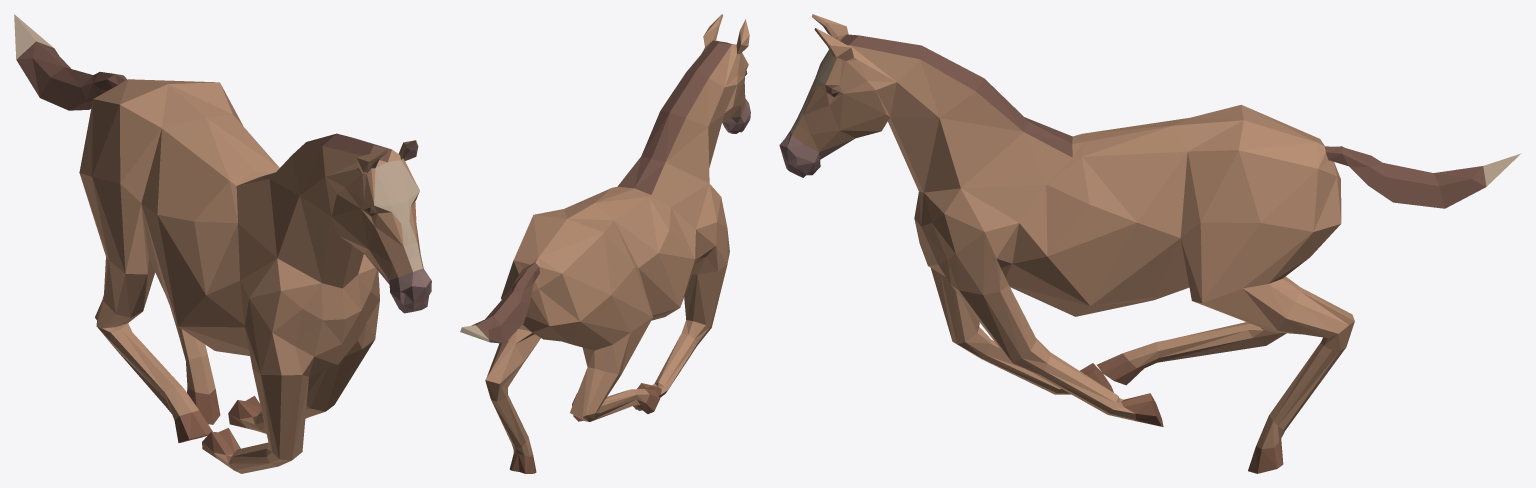
File: Horse.glb
3 views of the same model, side by side, from view 1: azimuth 30°, elevation 25°; view 2: azimuth 150°, elevation 25°; view 3: azimuth 270°, elevation 25° (orthographic). The views are drawn at different scales.
Parts seen in each view (by area): view 1: mesh_0; view 2: mesh_0; view 3: mesh_0.
Boxes of the visible parts, left/top/right/bottom form: mesh_0: left=14, top=14, right=431, bottom=473; mesh_0: left=460, top=14, right=750, bottom=473; mesh_0: left=779, top=14, right=1521, bottom=473.
Bounding box in the file's own units: 65.96 × 178 × 278.
